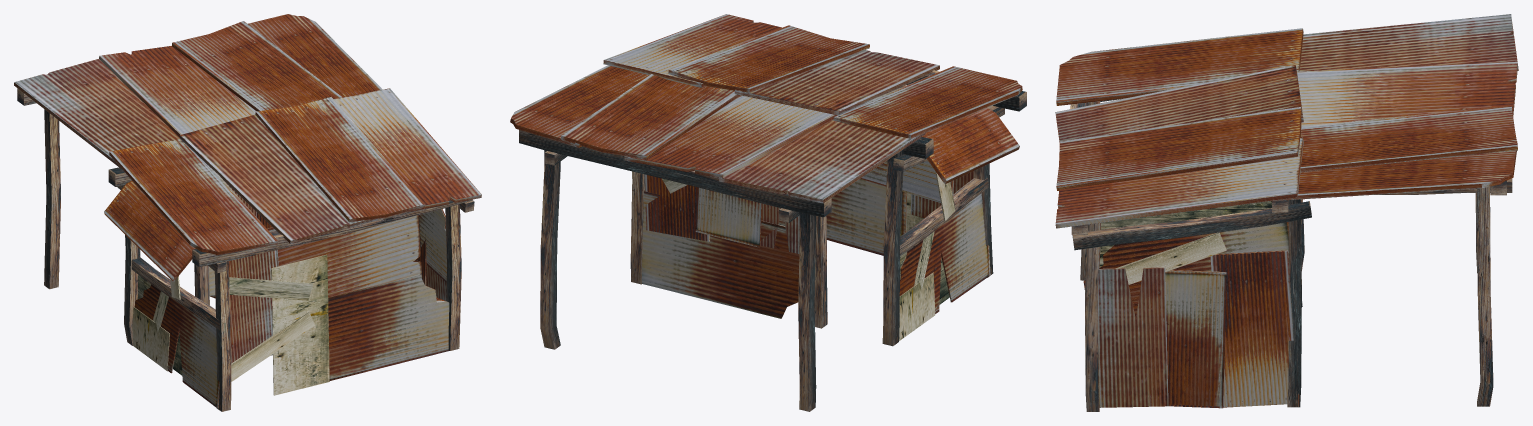
The model's file is Shack4.fbx.
3 views of the same model, side by side, from view 1: azimuth 30°, elevation 25°; view 2: azimuth 150°, elevation 25°; view 3: azimuth 270°, elevation 25° (orthographic). The views are drawn at different scales.
Parts seen in each view (by area): view 1: Roof.008, Roof.005, Back Sheet.001, Roof, Roof.001, Roof.003, Roof.007, Roof.002, Back Sheet, Back Wood Board.002, Roof.004, LSide Sheet (+15 smaller); view 2: Front Sheet.001, Roof.001, Roof.002, Roof.003, Roof, Roof.008, Roof.005, LSide Sheet, Roof.007, Roof.004, Roof.006, Front Wood Roof (+19 smaller); view 3: Roof.008, Roof, Roof.002, RSide Sheet.003, Roof.003, Roof.007, Roof.001, RSide Sheet.001, Roof.005, RSide Sheet.002, Roof.004, R Roof Wood (+7 smaller).
Boxes of the visible parts, x1=… form: Roof.008: x1=255, y1=96, x2=425, y2=222; Roof.005: x1=179, y1=115, x2=377, y2=243; Back Sheet.001: x1=328, y1=274, x2=449, y2=380; Roof: x1=109, y1=139, x2=277, y2=254; Roof.001: x1=14, y1=59, x2=179, y2=169; Roof.003: x1=172, y1=21, x2=341, y2=111; Roof.007: x1=334, y1=88, x2=481, y2=211; Roof.002: x1=99, y1=46, x2=256, y2=137; Back Sheet: x1=277, y1=215, x2=422, y2=297; Back Wood Board.002: x1=271, y1=254, x2=329, y2=395; Roof.004: x1=248, y1=14, x2=382, y2=97; LSide Sheet: x1=134, y1=284, x2=219, y2=408; Front Sheet.001: x1=642, y1=190, x2=799, y2=318; Roof.001: x1=719, y1=120, x2=925, y2=203; Roof.002: x1=624, y1=95, x2=837, y2=177; Roof.003: x1=561, y1=74, x2=740, y2=159; Roof: x1=832, y1=66, x2=1022, y2=138; Roof.008: x1=668, y1=25, x2=869, y2=92; Roof.005: x1=734, y1=50, x2=939, y2=115; LSide Sheet: x1=899, y1=193, x2=990, y2=313; Roof.007: x1=603, y1=14, x2=781, y2=87; Roof.004: x1=510, y1=65, x2=648, y2=147; Roof.006: x1=922, y1=108, x2=1019, y2=184; Front Wood Roof: x1=519, y1=130, x2=831, y2=217; Roof.008: x1=1056, y1=107, x2=1301, y2=190; Roof: x1=1056, y1=28, x2=1303, y2=105; Roof.002: x1=1297, y1=61, x2=1517, y2=126; RSide Sheet.003: x1=1210, y1=250, x2=1293, y2=407; Roof.003: x1=1300, y1=105, x2=1517, y2=172; Roof.007: x1=1055, y1=137, x2=1303, y2=228; Roof.001: x1=1299, y1=14, x2=1518, y2=71; RSide Sheet.001: x1=1098, y1=267, x2=1168, y2=407; Roof.005: x1=1055, y1=65, x2=1303, y2=143; RSide Sheet.002: x1=1165, y1=270, x2=1226, y2=408; Roof.004: x1=1270, y1=141, x2=1517, y2=201; R Roof Wood: x1=1072, y1=201, x2=1311, y2=250.
Size of the model in its own units: 525 by 351 by 588.
3 materials, 3 textured.
